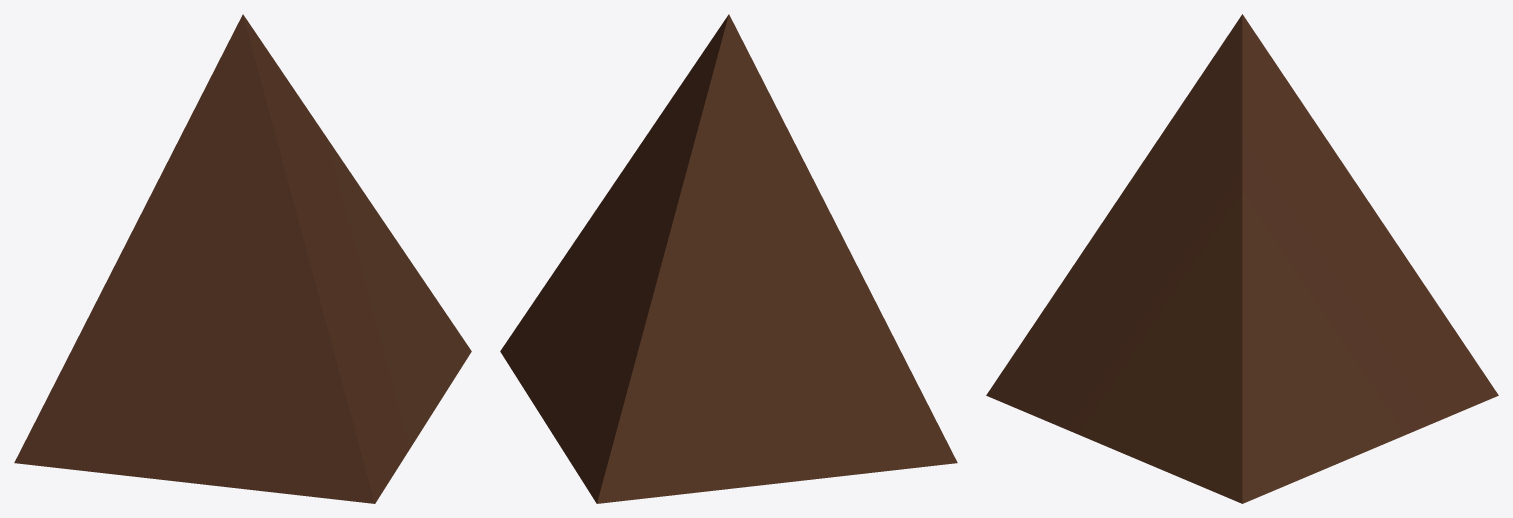
The model's file is BasePyramid.010.glb.
3 views of the same model, side by side, from view 1: azimuth 30°, elevation 25°; view 2: azimuth 150°, elevation 25°; view 3: azimuth 270°, elevation 25° (orthographic). The views are drawn at different scales.
Visible parts, largest first — view 1: BasePyramid.010; view 2: BasePyramid.010; view 3: BasePyramid.010.
Part boxes in pixels (left/top/right/bottom): BasePyramid.010: left=14, top=14, right=471, bottom=503; BasePyramid.010: left=500, top=14, right=957, bottom=503; BasePyramid.010: left=986, top=14, right=1498, bottom=503.
Size of what is drawn, in the model's own units: 0.9142 by 0.7506 by 0.9142.
1 material, 1 textured.
